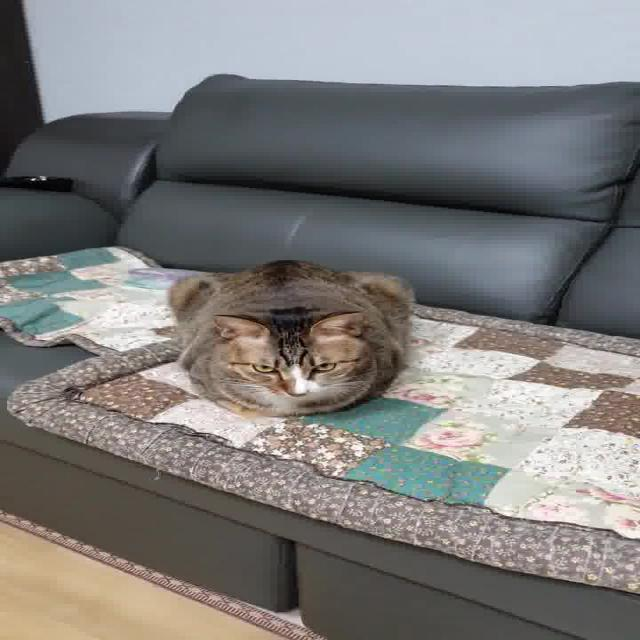cat: (151, 256, 434, 416)
